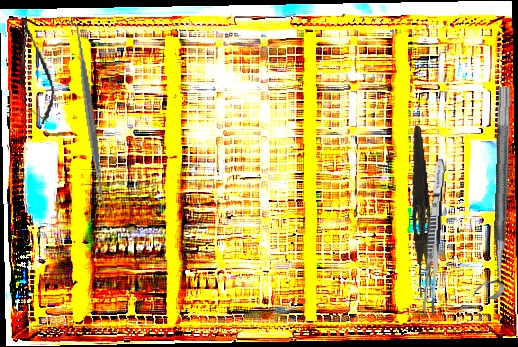Dressing Forceps: (404, 125, 439, 299), (421, 158, 448, 316)
Fixation Ring: (471, 85, 513, 300)
Micro Scissor: (7, 13, 60, 127)
Spatula Surgical: (65, 18, 114, 213)
